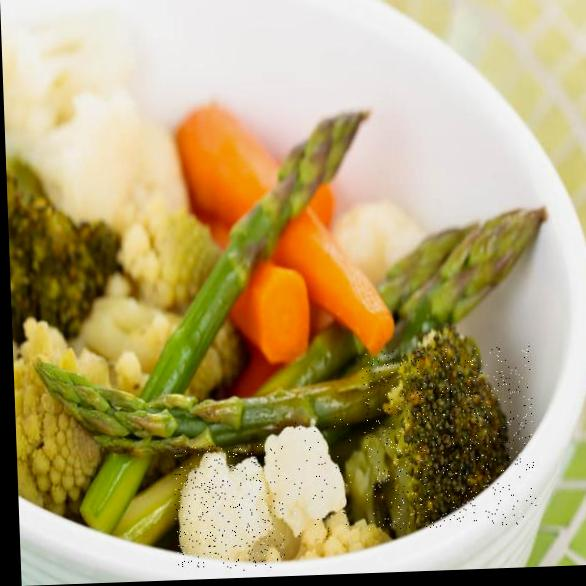Broccoli: (361, 346, 537, 530)
Cauliflower: (173, 443, 285, 573), (263, 417, 355, 542)
